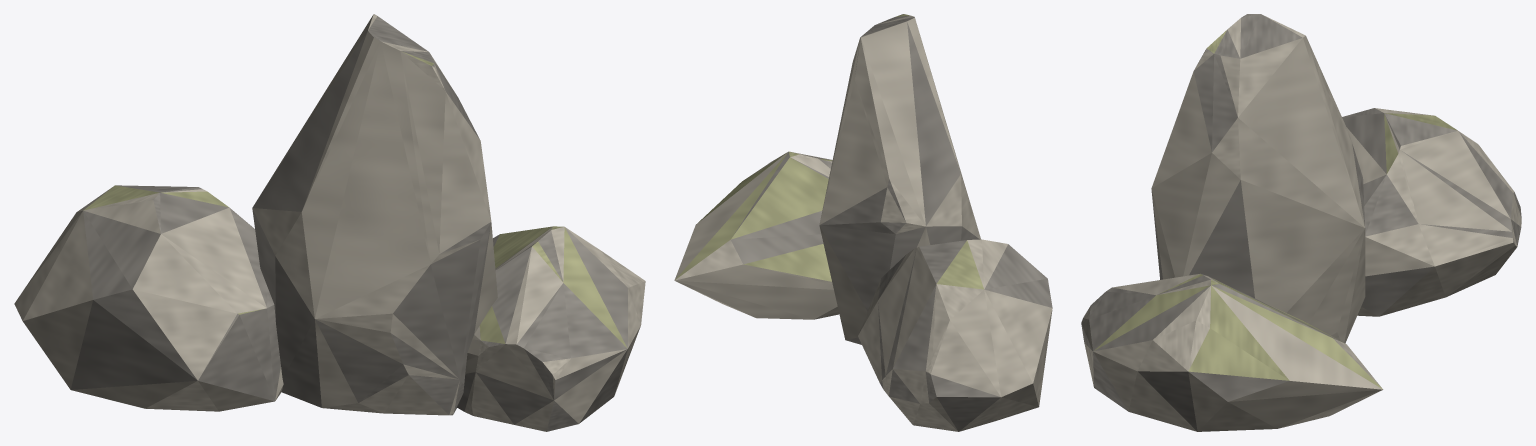
The model's file is rock_large_01.fbx.
The picture shows the model from 3 angles, left to right: view 1: azimuth 30°, elevation 25°; view 2: azimuth 150°, elevation 25°; view 3: azimuth 270°, elevation 25°; orthographic projection. The views are drawn at different scales.
Parts seen in each view (by area): view 1: rock_large_01; view 2: rock_large_01; view 3: rock_large_01.
Part boxes in pixels (x1,y1,x2,y2): rock_large_01: [14, 14, 645, 431]; rock_large_01: [674, 14, 1052, 431]; rock_large_01: [1081, 14, 1521, 431].
Bounding box in the file's own units: 3.39 × 2.34 × 2.91.
